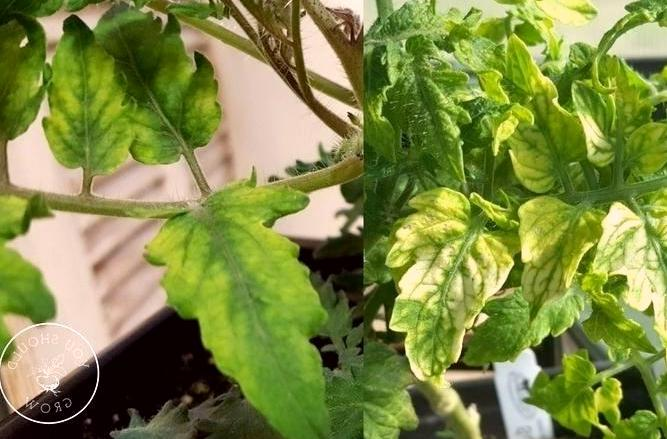Tomato leaf yellow virus: (135, 168, 344, 434), (389, 190, 511, 390), (85, 6, 222, 183), (588, 186, 667, 420), (497, 200, 608, 339), (46, 21, 133, 181), (498, 47, 580, 211), (574, 67, 667, 186), (518, 356, 626, 436)
